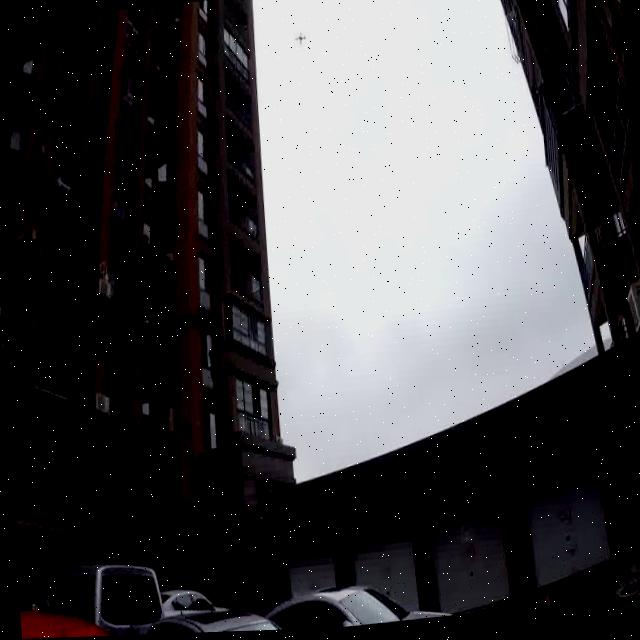drone: (281, 14, 314, 55)
